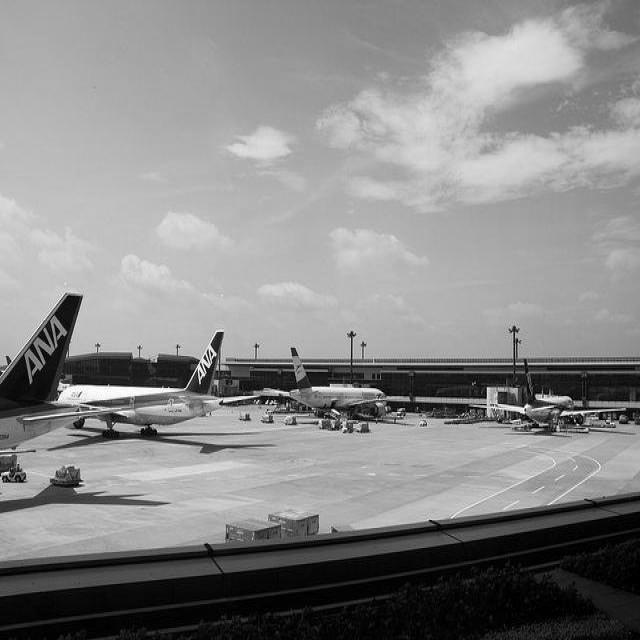vehicle: (49, 464, 83, 487), (1, 463, 27, 483), (283, 416, 296, 424), (397, 408, 406, 416), (419, 420, 427, 427), (635, 417, 640, 423)
